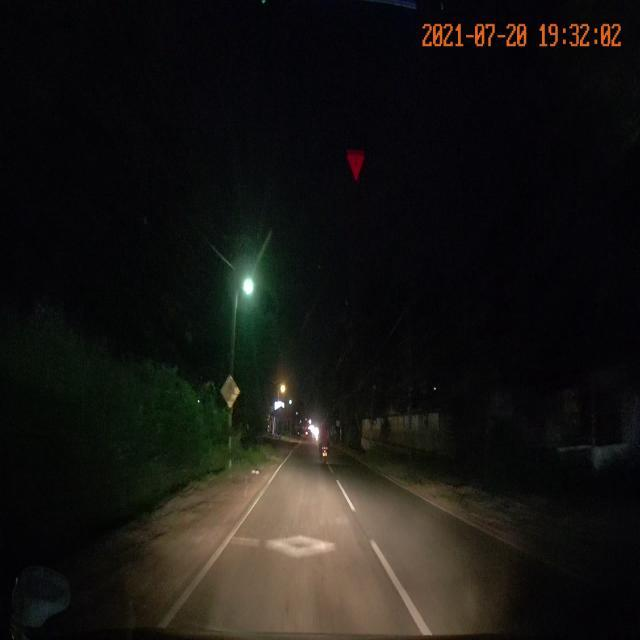diamond: (183, 520, 411, 595)
